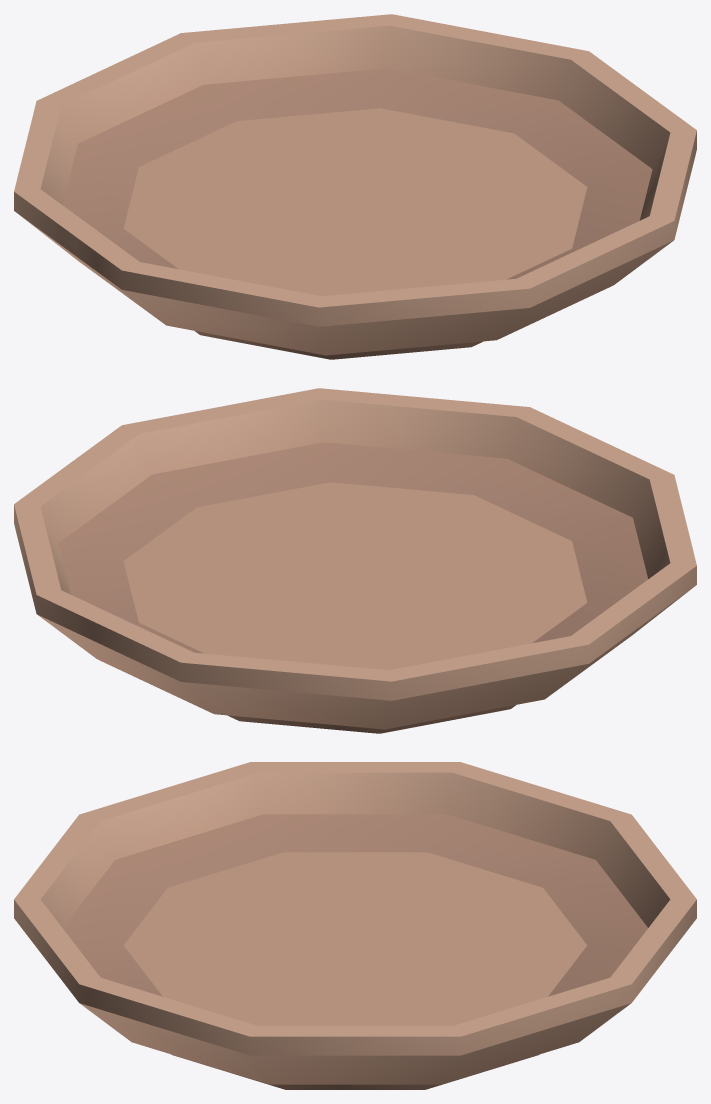
Rendered from tajine.glb.
3 views of the same model, one above another, from view 1: azimuth 30°, elevation 25°; view 2: azimuth 150°, elevation 25°; view 3: azimuth 270°, elevation 25° (orthographic). The views are drawn at different scales.
Parts seen in each view (by area): view 1: tajine; view 2: tajine; view 3: tajine.
Part boxes in pixels (x1,y1,x2,y2): tajine: (14,14,696,359); tajine: (14,388,696,733); tajine: (14,762,696,1089).
Bounding box in the file's own units: 0.8191 × 0.138 × 0.8613.
